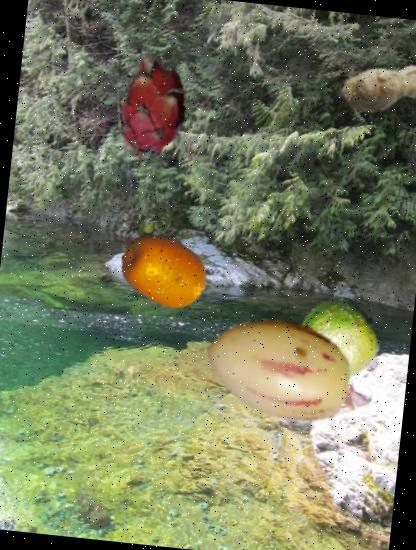Ginger: (335, 36, 416, 140)
Kumquats: (114, 222, 214, 321)
Limes: (288, 292, 384, 388)
Pepino: (198, 286, 362, 450)
Pitahaya: (92, 48, 211, 168)
